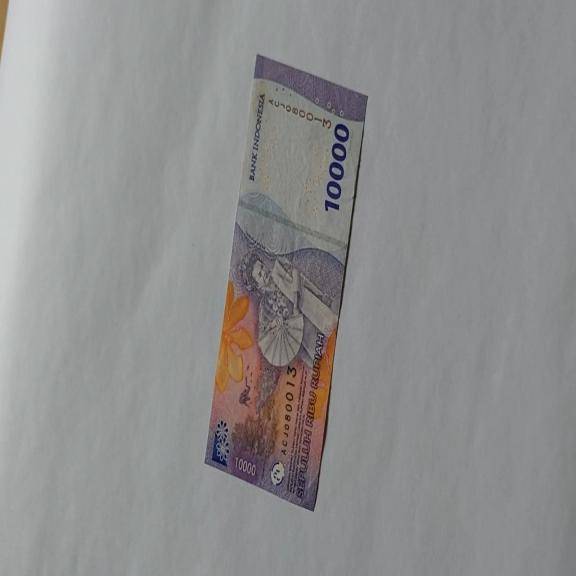Kertas: (203, 53, 369, 512)
